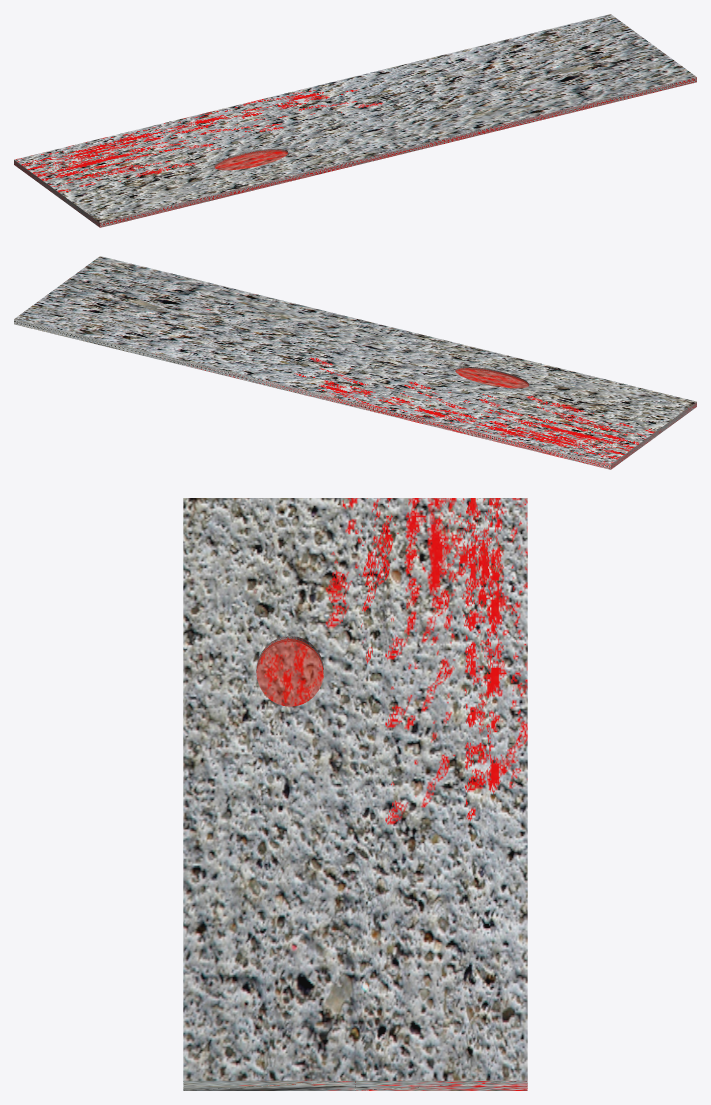
The model's file is gang_comb.glb.
3 renders of one model, top to bottom at view 1: azimuth 30°, elevation 25°; view 2: azimuth 150°, elevation 25°; view 3: azimuth 270°, elevation 25°, orthographic. The views are drawn at different scales.
Parts seen in each view (by area): view 1: Floor, Blood; view 2: Floor, Blood; view 3: Floor, Blood.
Part boxes in pixels (box(x1,y1,x2,y2)): Floor: box(14, 14, 696, 227); Blood: box(215, 150, 287, 170); Floor: box(14, 256, 696, 469); Blood: box(455, 368, 528, 388); Floor: box(183, 498, 527, 1090); Blood: box(256, 639, 323, 706).
Size of the model in its own units: 12 by 0.1034 by 3.
2 materials, 1 textured.
